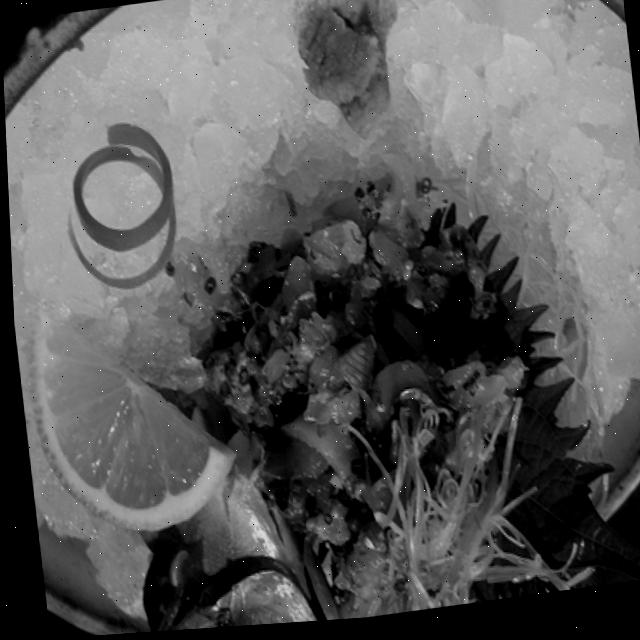熟制海鲜: (86, 179, 626, 636)
